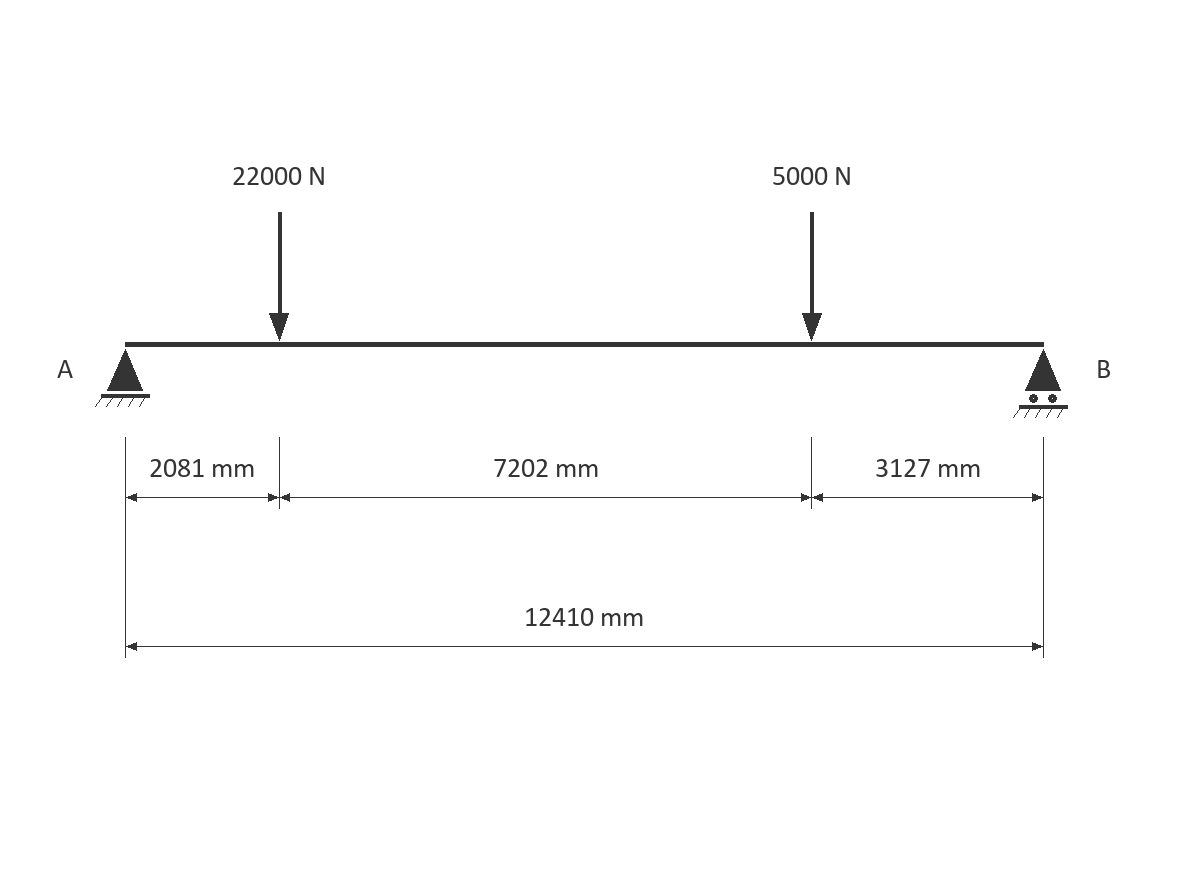pin_support: (95, 349, 150, 407)
point_load: (269, 212, 289, 341), (802, 212, 822, 341)
roller_support: (1013, 349, 1068, 418)
